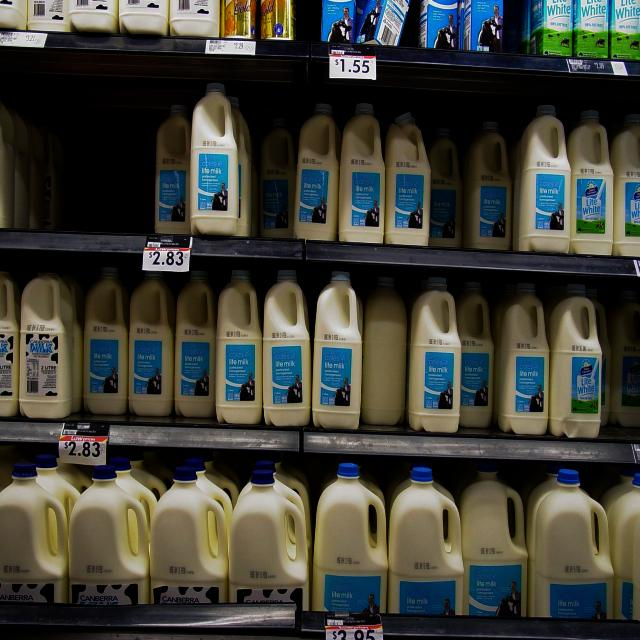empty_space: (60, 106, 144, 230)
